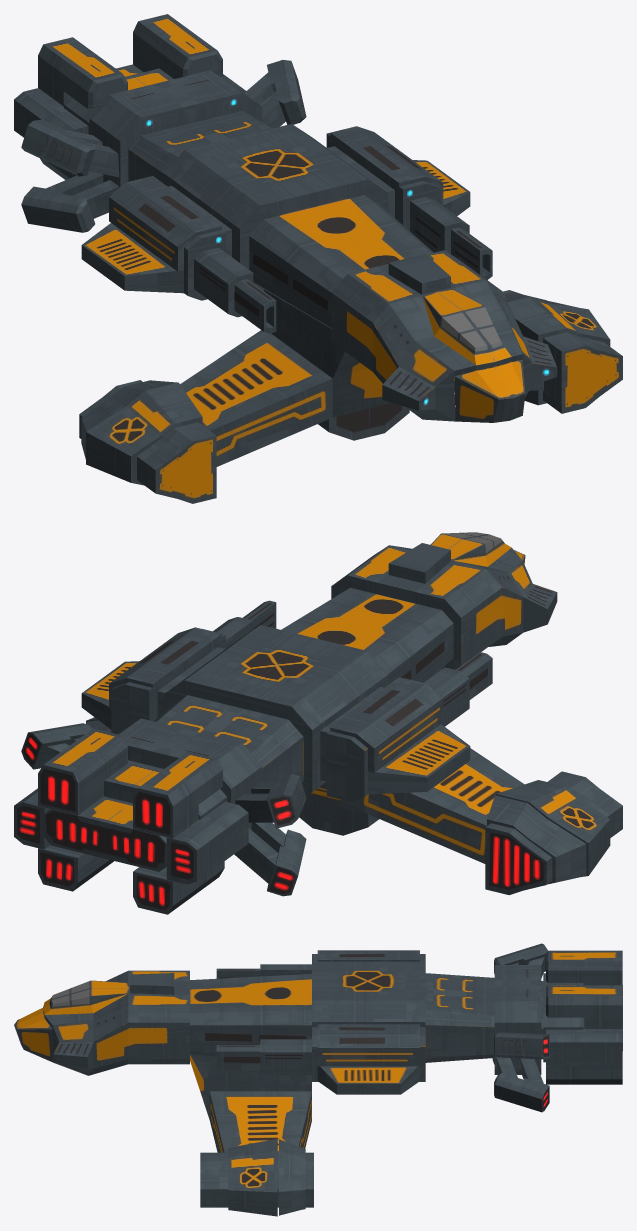
The model's file is rlab-fragata.glb.
3 renders of one model, top to bottom at view 1: azimuth 30°, elevation 25°; view 2: azimuth 150°, elevation 25°; view 3: azimuth 270°, elevation 25°, orthographic. The views are drawn at different scales.
Visible parts, largest first — view 1: Cube.001; view 2: Cube.001; view 3: Cube.001.
Part boxes in pixels (bbox=[...]): Cube.001: bbox=[14, 14, 622, 503]; Cube.001: bbox=[14, 532, 622, 914]; Cube.001: bbox=[14, 943, 622, 1216].
Size of the model in its own units: 1.42 by 0.6229 by 2.
1 material, 1 textured.
